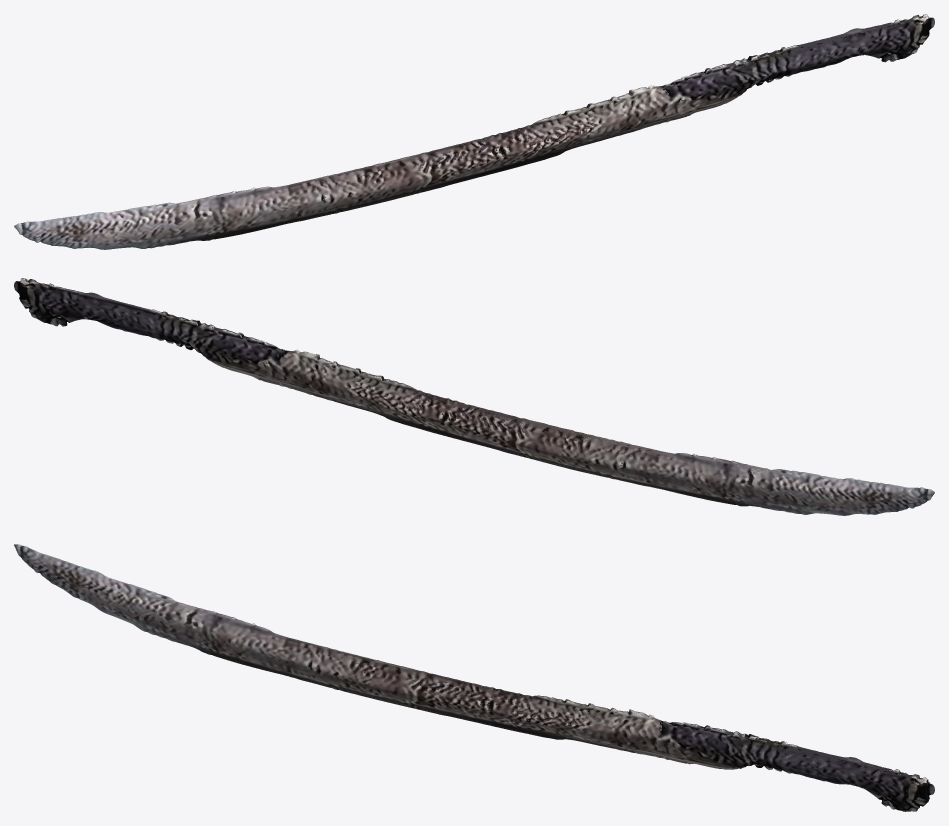
File: kfl-2267.glb
3 renders of one model, top to bottom at view 1: azimuth 30°, elevation 25°; view 2: azimuth 150°, elevation 25°; view 3: azimuth 330°, elevation 25°, orthographic.
Visible parts, largest first — view 1: kfl-2267; view 2: kfl-2267; view 3: kfl-2267.
Boxes of the visible parts, x1,y1,x2,y2 form: kfl-2267: (14, 14, 934, 249); kfl-2267: (14, 278, 934, 515); kfl-2267: (14, 544, 934, 811).
Size of the model in its own units: 0.9842 by 0.0691 by 0.0339.
3 materials, 3 textured.
